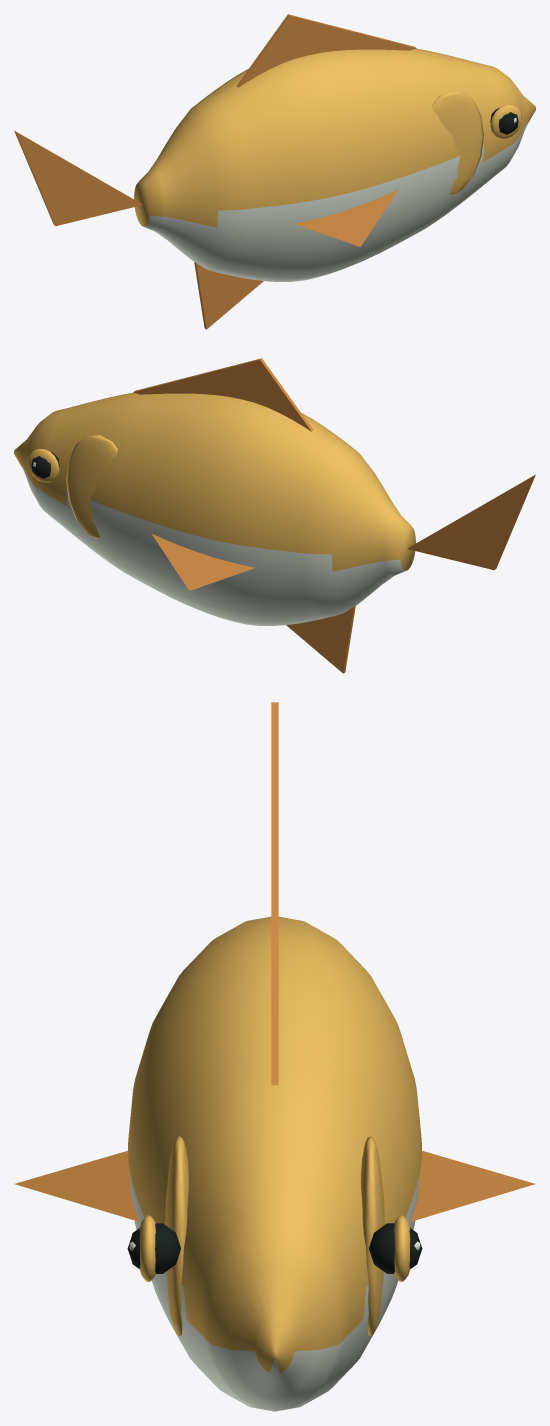
File: oldgold.glb
The picture shows the model from 3 angles, top to bottom: view 1: azimuth 30°, elevation 25°; view 2: azimuth 150°, elevation 25°; view 3: azimuth 270°, elevation 25°; orthographic projection. The views are drawn at different scales.
Parts seen in each view (by area): view 1: oldgold_Body, TailFin.004, Dorsal.004, Gill_plate.008, Pectoral.008, Anal_fin.004, Iris_rim.008; view 2: oldgold_Body, TailFin.004, Dorsal.004, Gill_plate.009, Pectoral.009, Anal_fin.004, Iris_rim.009; view 3: oldgold_Body, Pectoral.008, Pectoral.009, Gill_plate.008, Gill_plate.009, Dorsal.004, Eye.008, Eye.009, TailFin.004, Iris_rim.008, Iris_rim.009.
Part boxes in pixels (x1,y1,x2,y2): oldgold_Body: (134,48,535,281); TailFin.004: (14,130,142,225); Dorsal.004: (236,14,416,87); Gill_plate.008: (432,91,483,194); Pectoral.008: (294,190,397,246); Anal_fin.004: (194,262,263,329); Iris_rim.008: (490,104,521,138); oldgold_Body: (14,392,415,625); TailFin.004: (407,474,535,569); Dorsal.004: (133,358,313,431); Gill_plate.009: (66,435,117,538); Pectoral.009: (152,534,255,590); Anal_fin.004: (286,606,355,673); Iris_rim.009: (28,448,59,482); oldgold_Body: (128,916,421,1411); Pectoral.008: (14,1150,139,1221); Pectoral.009: (410,1150,535,1221); Gill_plate.008: (165,1136,188,1336); Gill_plate.009: (361,1136,384,1336); Dorsal.004: (271,856,278,1085); Eye.008: (127,1223,180,1273); Eye.009: (369,1223,422,1273); TailFin.004: (271,702,278,856); Iris_rim.008: (139,1215,155,1281); Iris_rim.009: (394,1215,410,1281).
Size of the model in its own units: 2.38 by 1.29 by 1.14.
